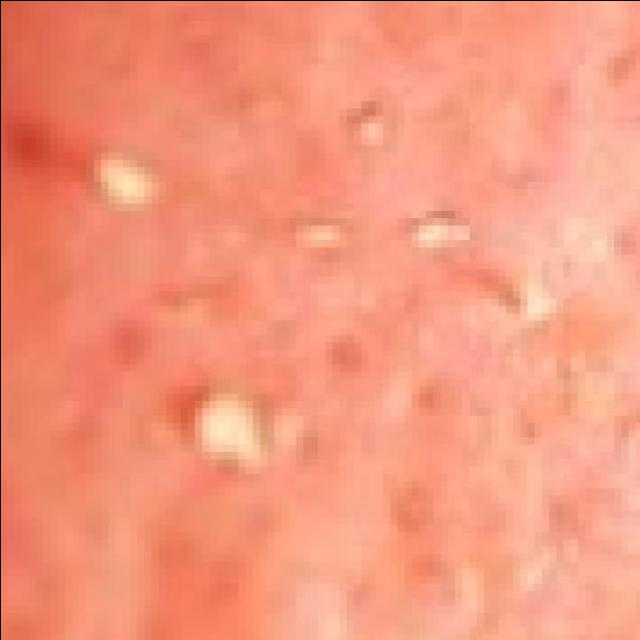whitehead: (14, 78, 618, 539)
